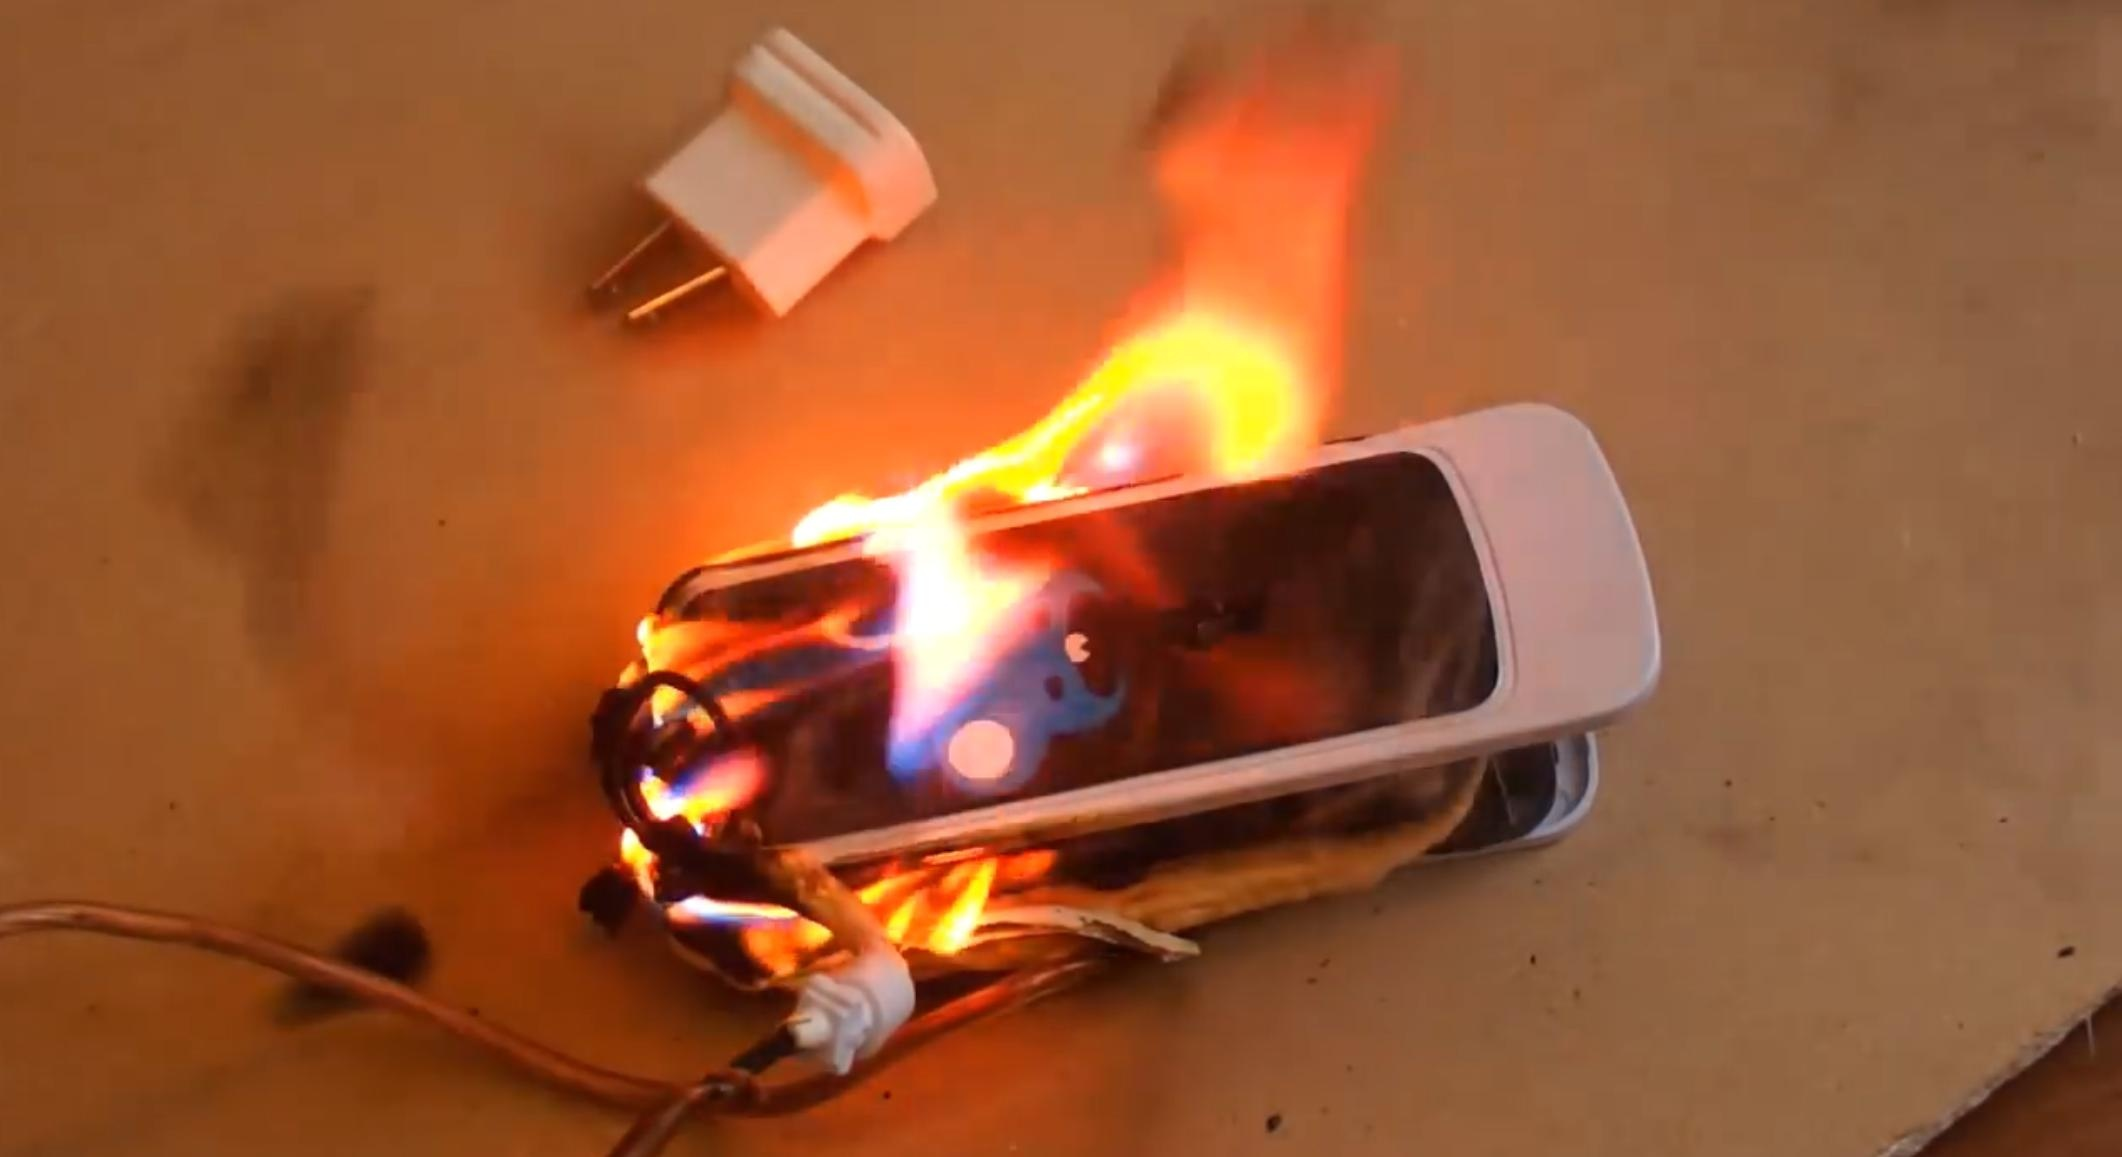fire: (601, 217, 1346, 892)
